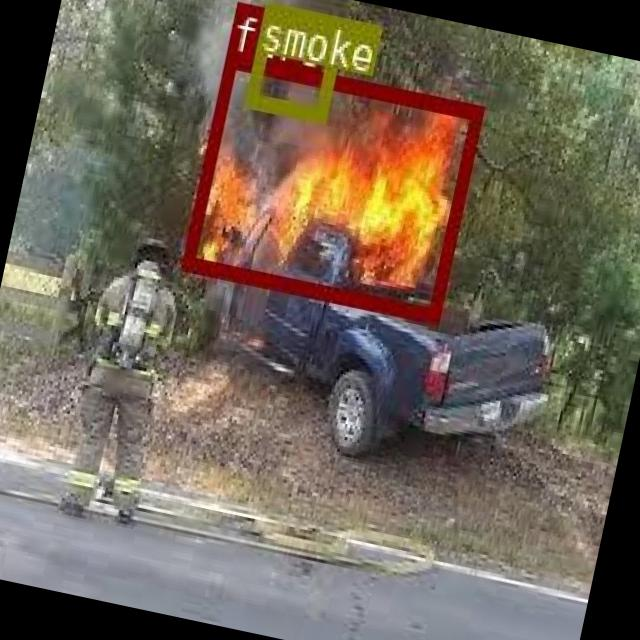fire: (180, 52, 481, 322)
smoke: (244, 0, 342, 120)
